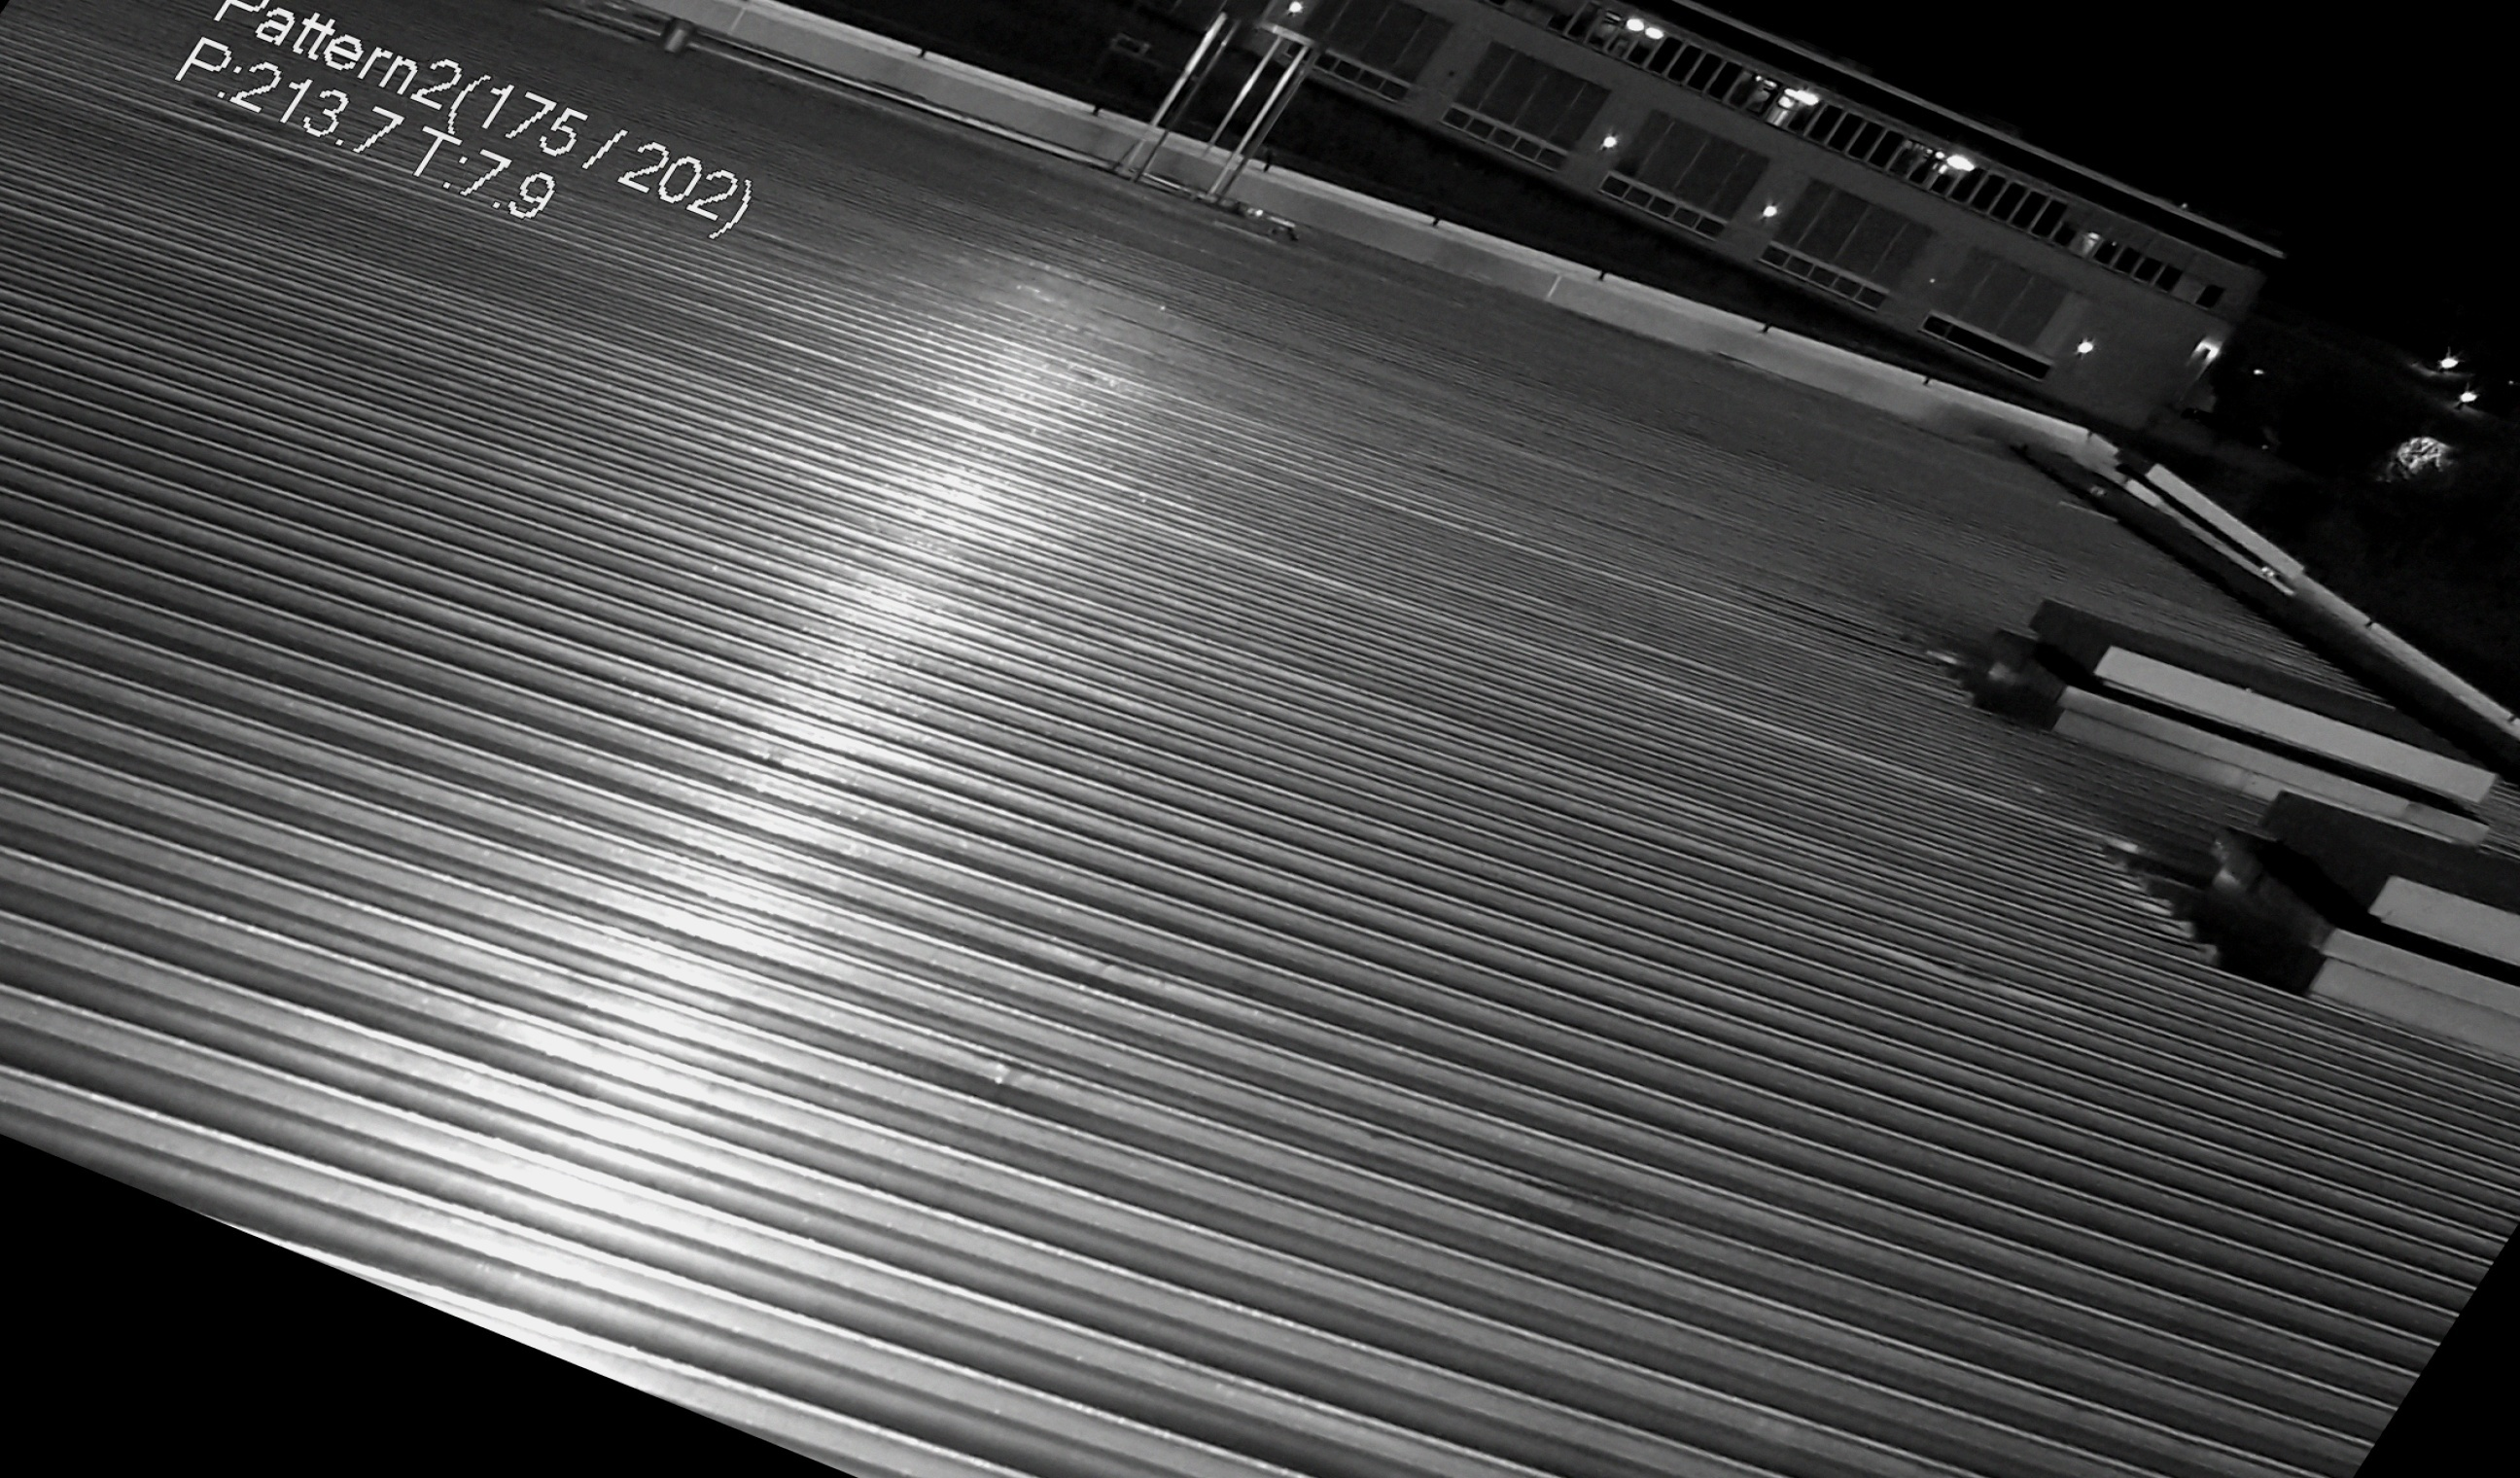Other: (2137, 792, 2429, 1010)
